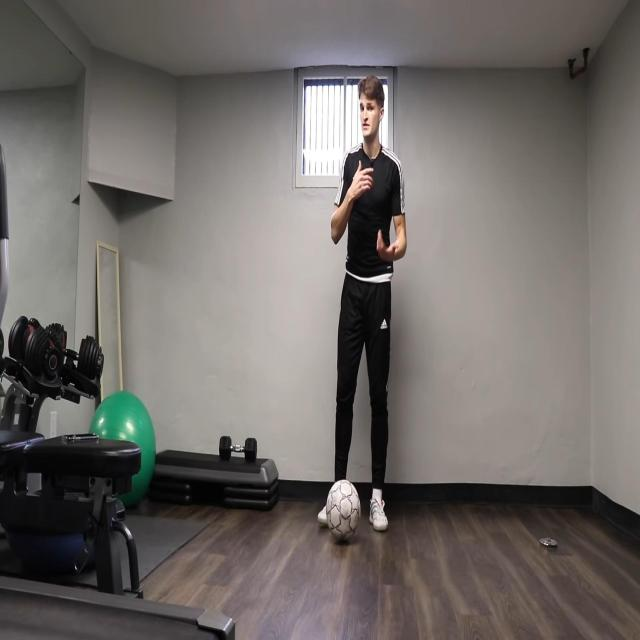Soccer Ball: (326, 479, 361, 542)
